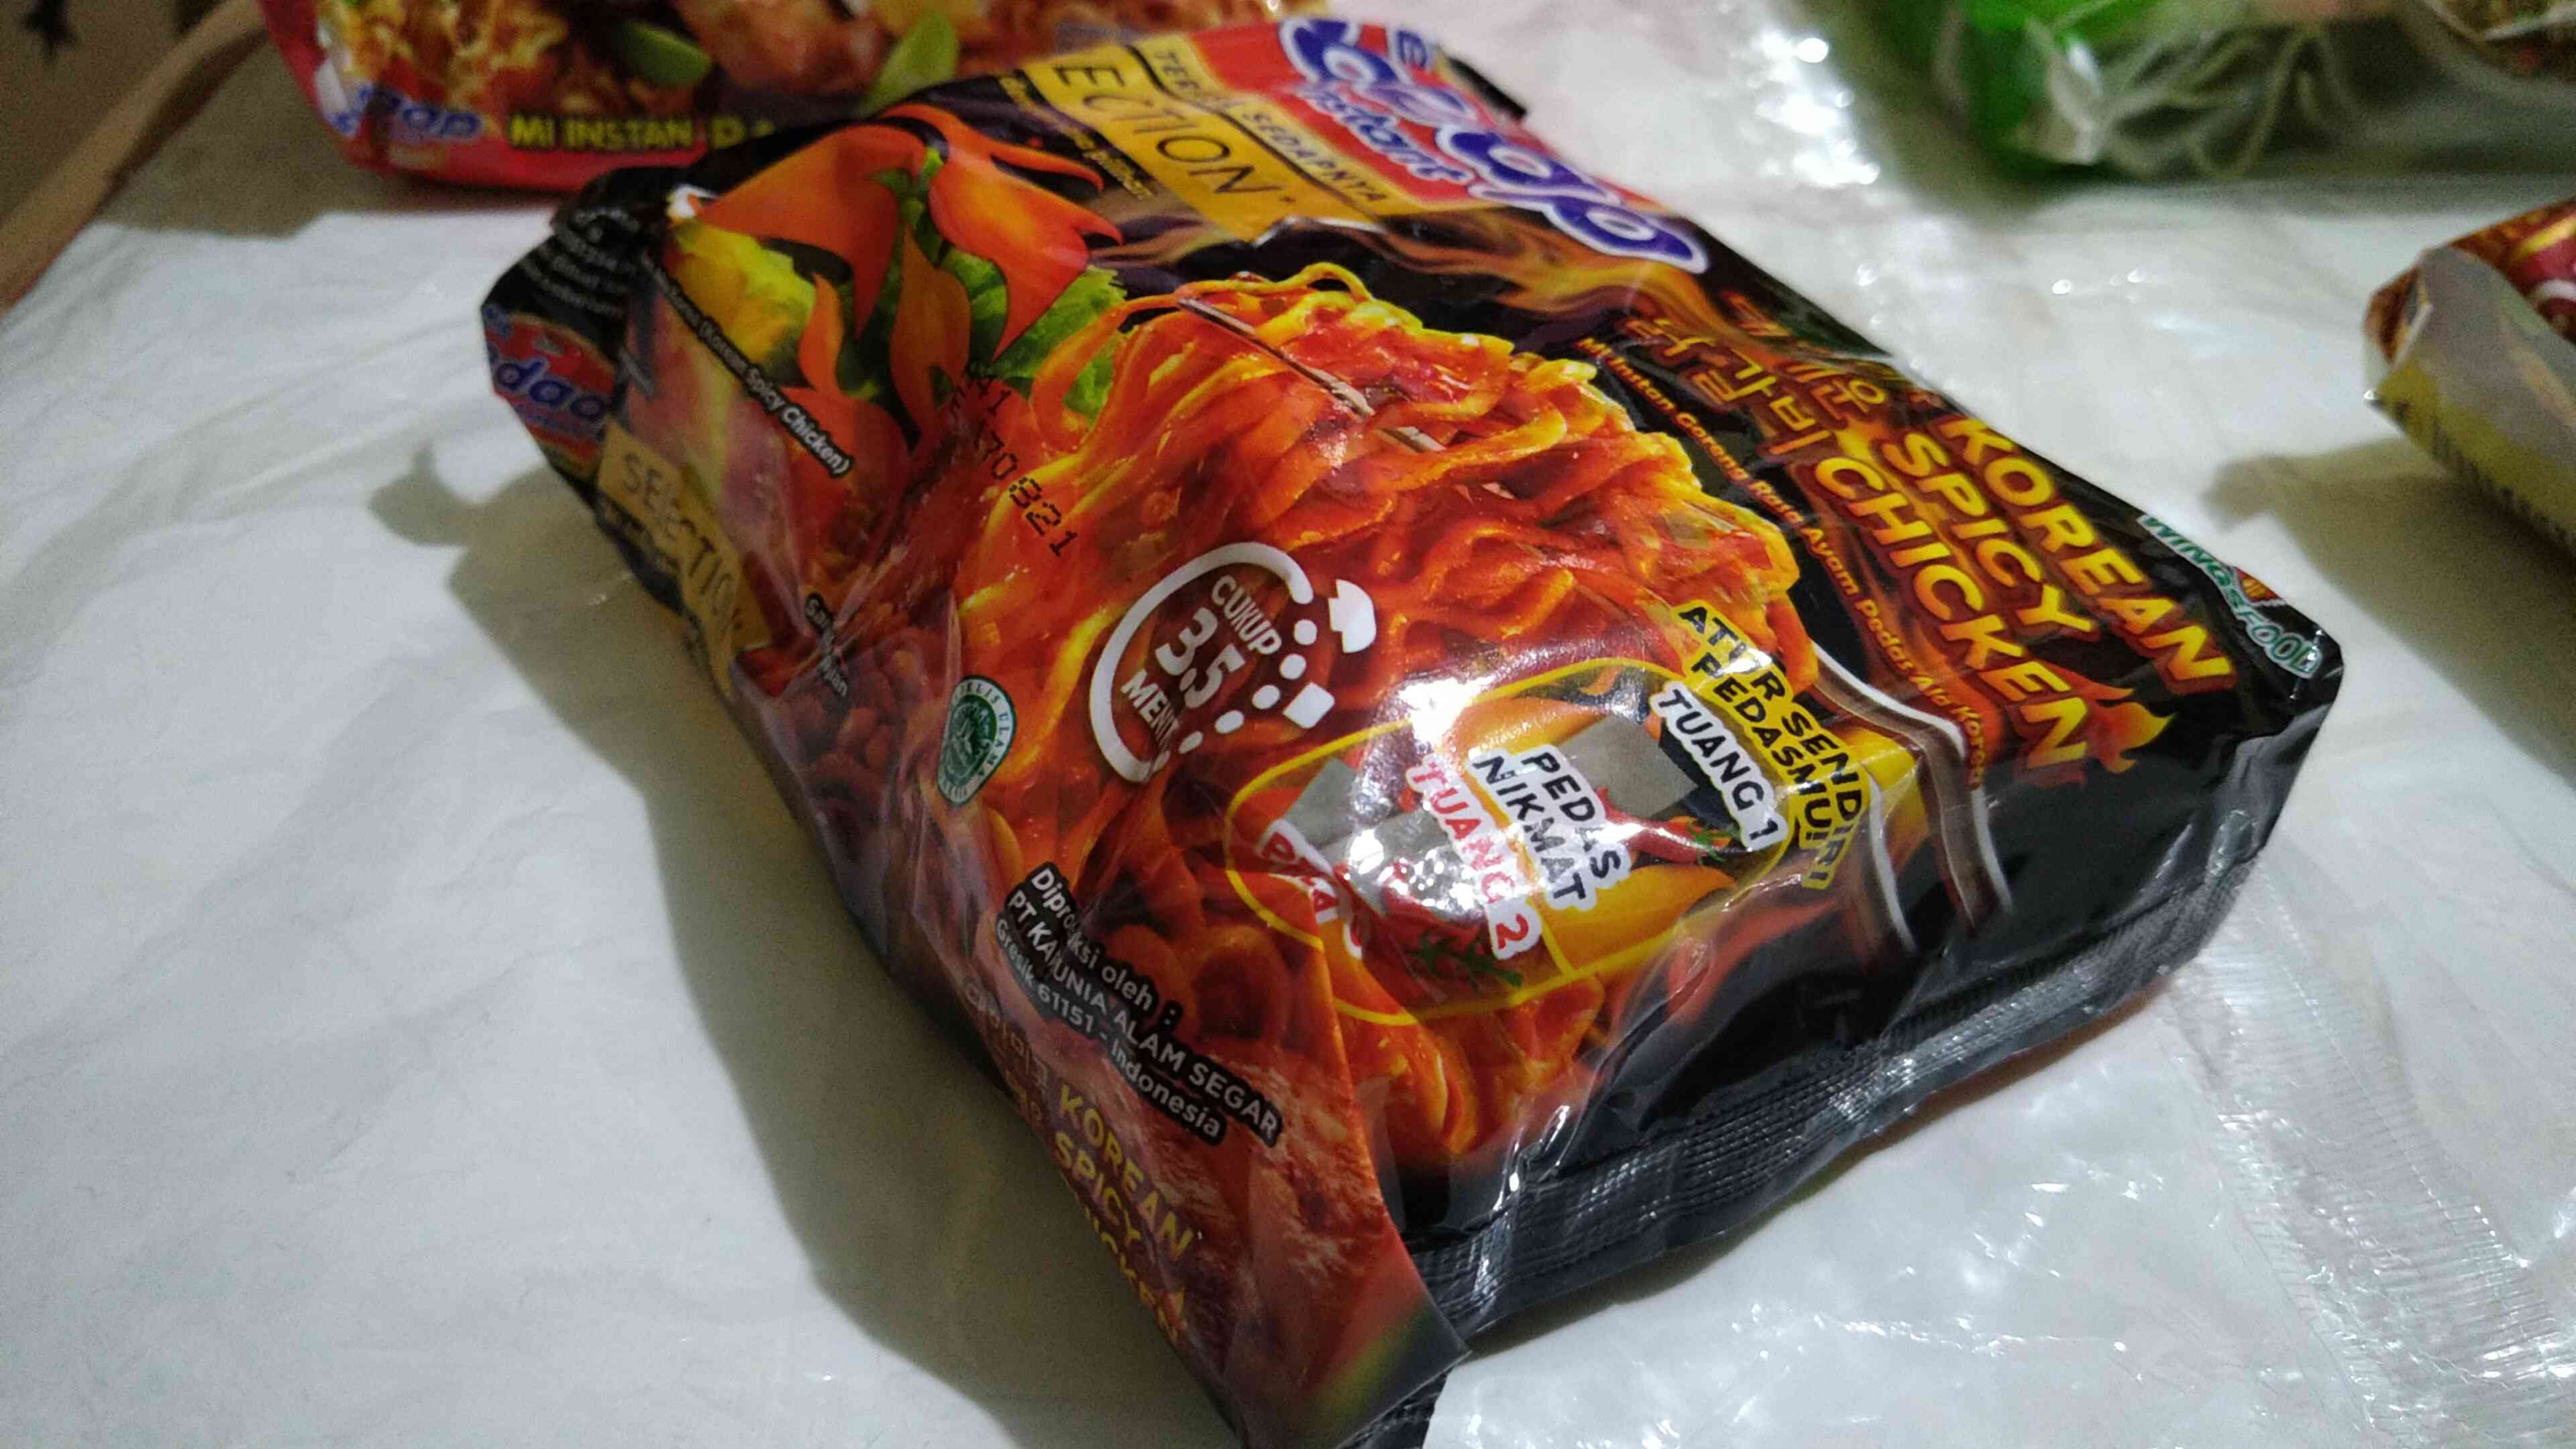sedaap spicy: (478, 16, 2305, 1421)
